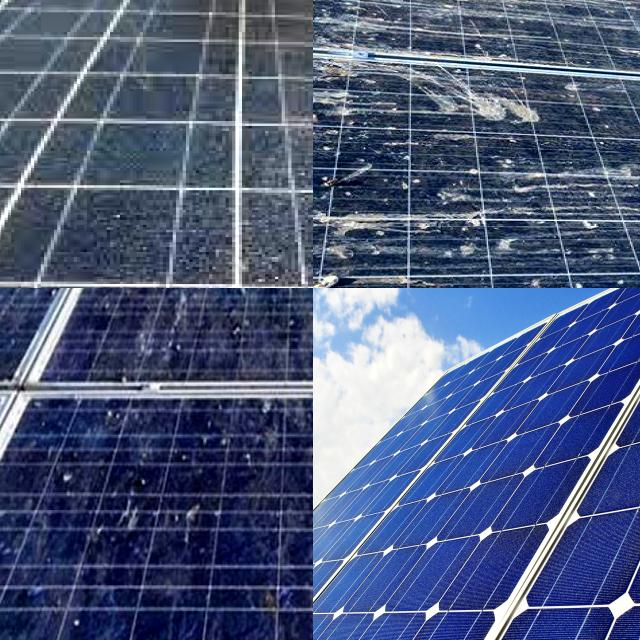bird: (458, 153, 614, 231), (414, 82, 529, 132), (333, 0, 488, 27), (313, 11, 405, 43), (164, 500, 208, 554), (49, 444, 88, 490), (130, 450, 156, 518), (313, 83, 367, 112), (244, 585, 286, 622), (66, 603, 88, 638), (313, 267, 349, 287), (166, 453, 206, 471), (0, 588, 15, 608), (361, 285, 408, 288)
crack: (516, 487, 640, 614), (498, 460, 601, 538), (313, 604, 494, 640), (447, 604, 615, 640), (536, 408, 632, 468), (588, 432, 640, 521), (572, 365, 640, 418)
dust: (196, 0, 313, 190), (17, 135, 166, 257), (182, 212, 313, 284)
